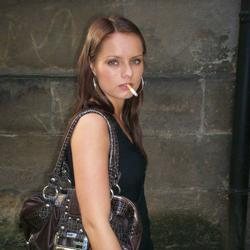smoking: (118, 82, 139, 99)
